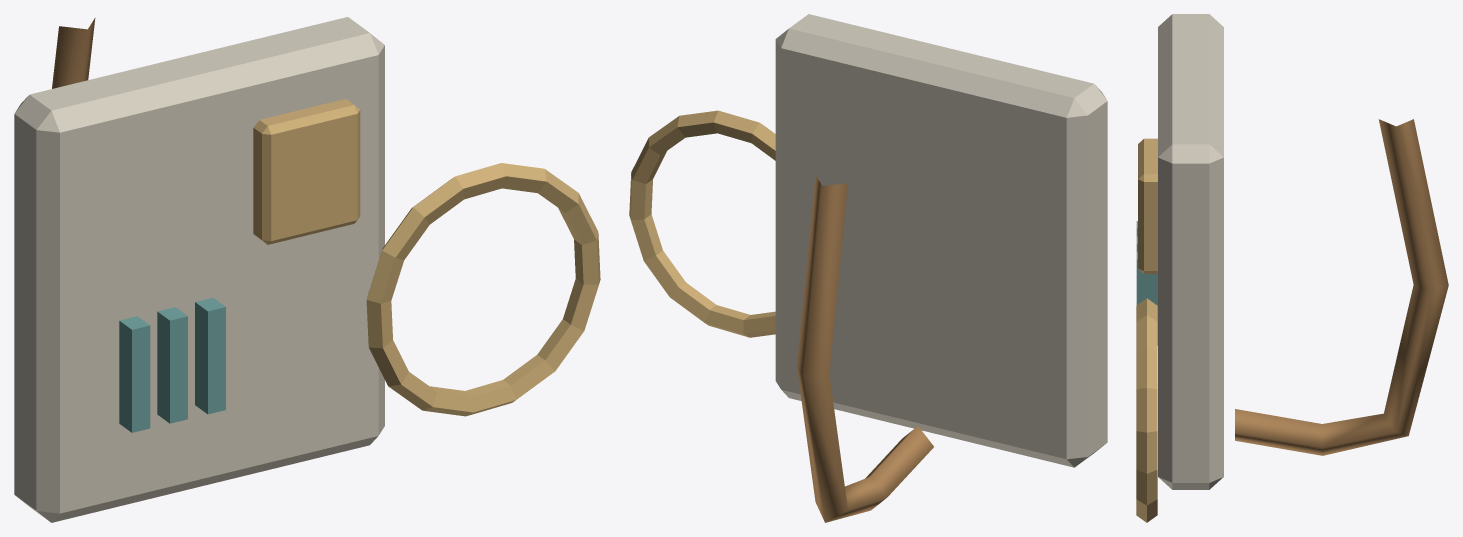
The model's file is object_doctor.glb.
3 renders of one model, left to right at view 1: azimuth 30°, elevation 25°; view 2: azimuth 150°, elevation 25°; view 3: azimuth 270°, elevation 25°, orthographic. The views are drawn at different scales.
Parts seen in each view (by area): view 1: object_doctor; view 2: object_doctor; view 3: object_doctor.
Boxes of the visible parts, x1,y1,x2,y2 form: object_doctor: (14, 17, 600, 522); object_doctor: (629, 14, 1107, 522); object_doctor: (1136, 14, 1448, 522).
Size of the model in its own units: 0.3622 by 0.2834 by 0.2131.
